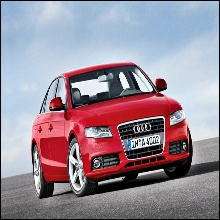no damage: (30, 62, 194, 196)
